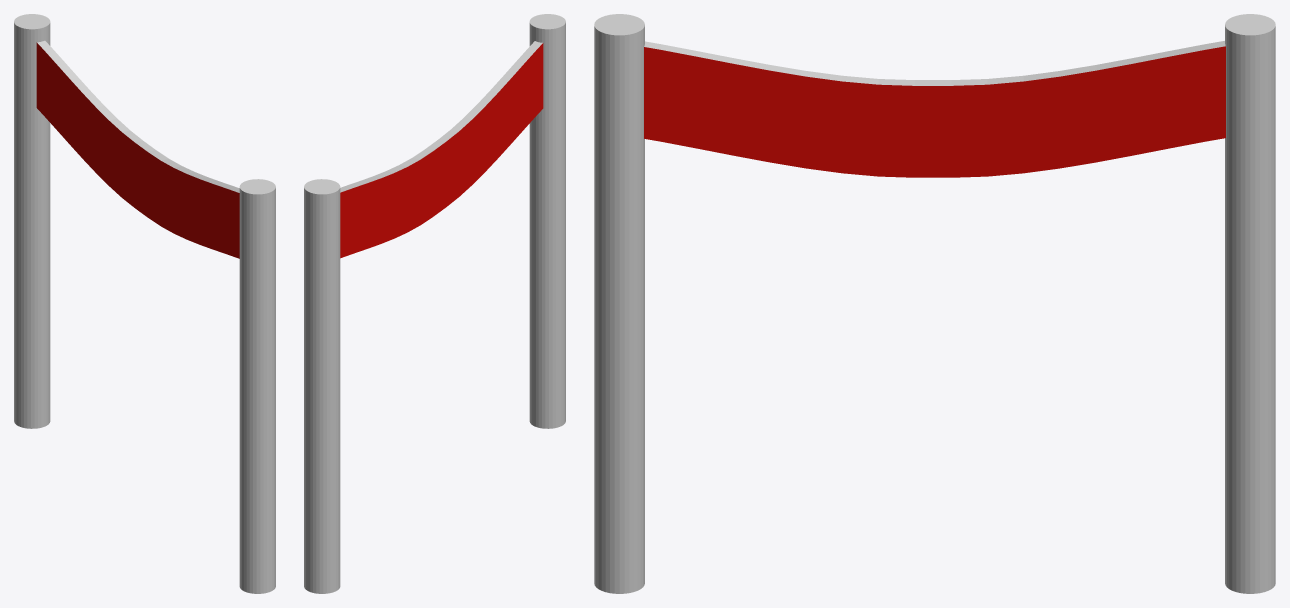
Rendered from Hanger.fbx.
The picture shows the model from 3 angles, left to right: view 1: azimuth 30°, elevation 25°; view 2: azimuth 150°, elevation 25°; view 3: azimuth 270°, elevation 25°; orthographic projection. The views are drawn at different scales.
Parts seen in each view (by area): view 1: Cylinder.002; view 2: Cylinder.002; view 3: Cylinder.002.
Boxes of the visible parts, x1,y1,x2,y2 form: Cylinder.002: [14, 14, 275, 593]; Cylinder.002: [304, 14, 565, 593]; Cylinder.002: [594, 14, 1275, 593].
Bounding box in the file's own units: 16.47 × 200 × 221.
